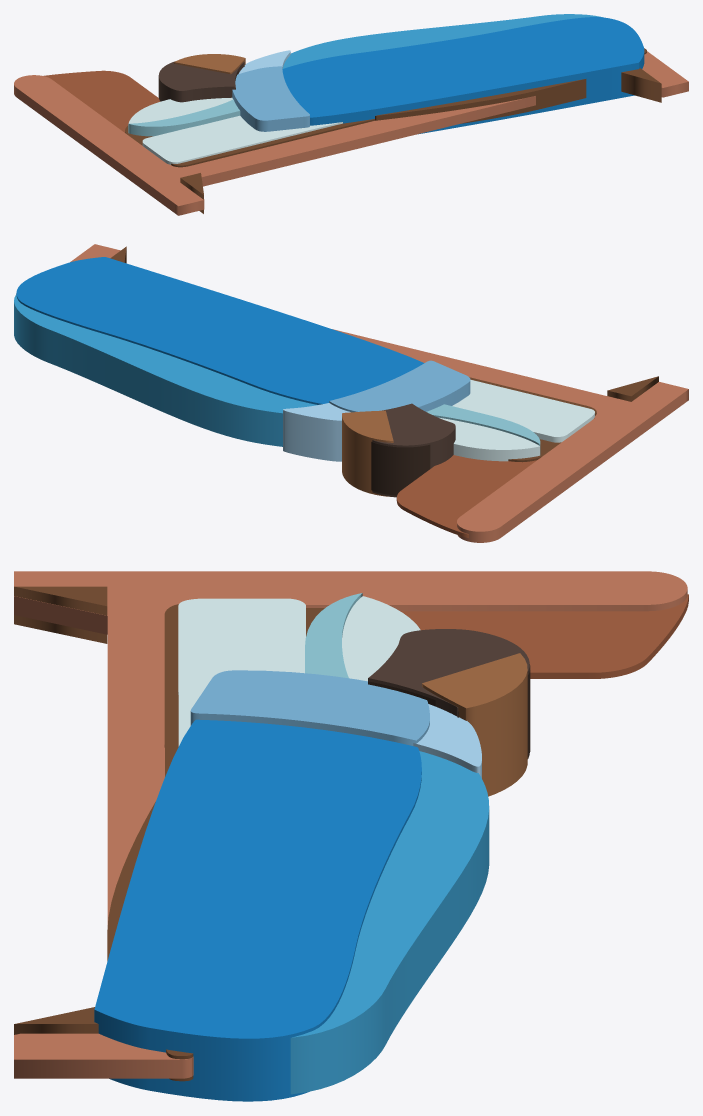
Rendered from emoji_u1f6cc_1f3fe.glb.
3 views of the same model, one above another, from view 1: azimuth 30°, elevation 25°; view 2: azimuth 150°, elevation 25°; view 3: azimuth 270°, elevation 25° (orthographic). The views are drawn at different scales.
Visible parts, largest first — view 1: emoji_u1f6cc_1f3fe; view 2: emoji_u1f6cc_1f3fe; view 3: emoji_u1f6cc_1f3fe.
Part boxes in pixels (x1=…): emoji_u1f6cc_1f3fe: x1=14, y1=14, x2=688, y2=215; emoji_u1f6cc_1f3fe: x1=14, y1=244, x2=688, y2=542; emoji_u1f6cc_1f3fe: x1=14, y1=571, x2=688, y2=1101.
Bounding box in the file's own units: 0.0334 × 0.003 × 0.0195.
